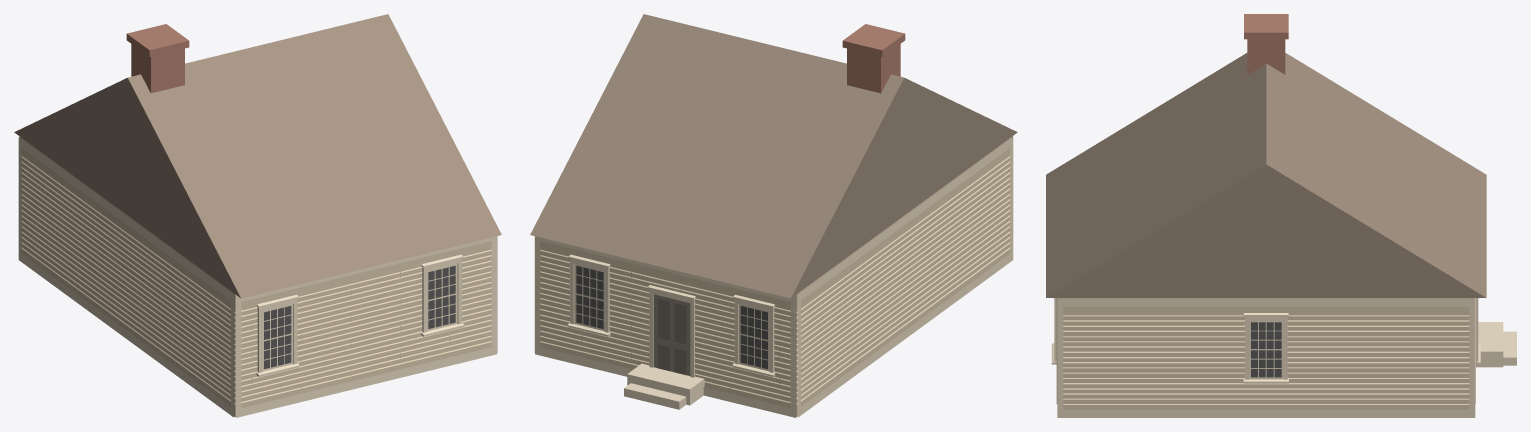
The model's file is recon_1835_blk_school_section_tier_81_d5_01__inferred_1835.glb.
3 views of the same model, side by side, from view 1: azimuth 30°, elevation 25°; view 2: azimuth 150°, elevation 25°; view 3: azimuth 270°, elevation 25° (orthographic). The views are drawn at different scales.
Visible parts, largest first — view 1: recon_1835_blk_school_section_tier_81_d5_01__inferred_1835; view 2: recon_1835_blk_school_section_tier_81_d5_01__inferred_1835; view 3: recon_1835_blk_school_section_tier_81_d5_01__inferred_1835.
Part boxes in pixels (left/top/right/bottom): recon_1835_blk_school_section_tier_81_d5_01__inferred_1835: left=14, top=14, right=501, bottom=417; recon_1835_blk_school_section_tier_81_d5_01__inferred_1835: left=530, top=14, right=1017, bottom=417; recon_1835_blk_school_section_tier_81_d5_01__inferred_1835: left=1046, top=14, right=1516, bottom=417.
Size of the model in its own units: 6.59 by 6.94 by 10.39.
